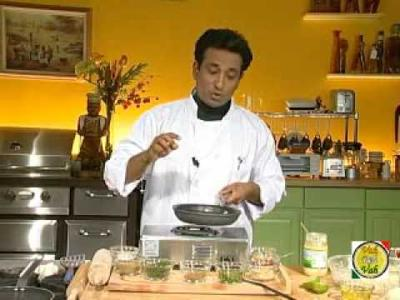person: (105, 28, 286, 246)
